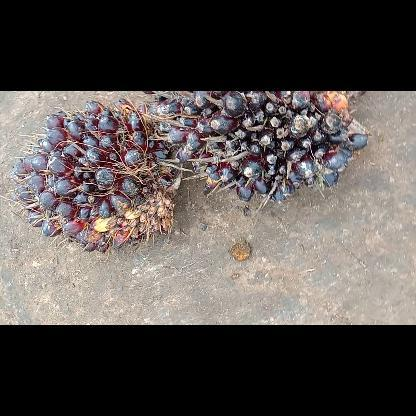TBS mentah: (12, 95, 186, 249), (148, 91, 372, 204)
